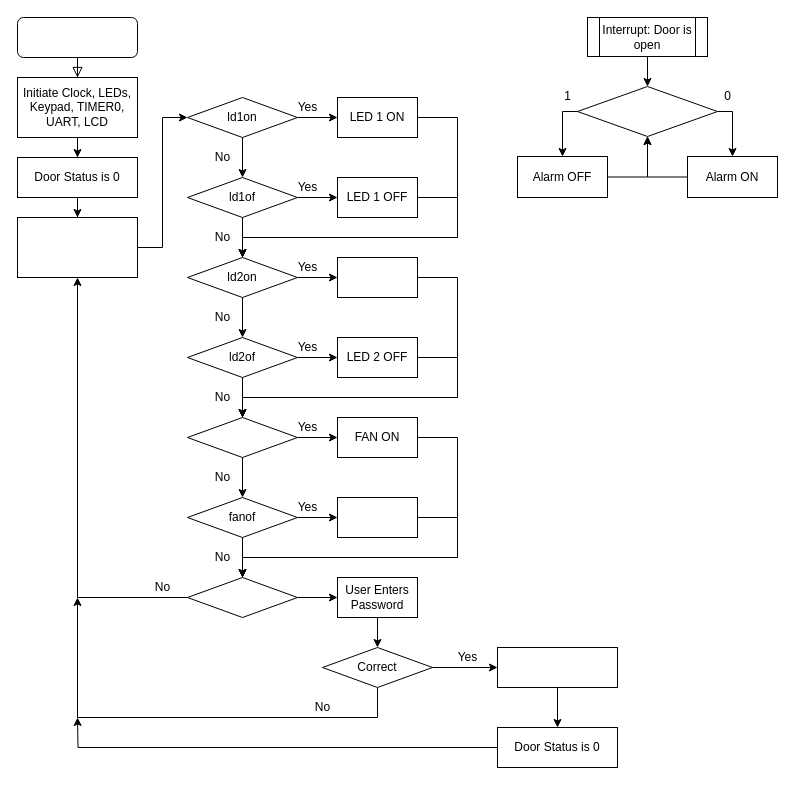
Some shapes in this 795 by 785 pixel diagram are drawn without their labels. Each missing label, with the box of its shape:
Door status: (576, 86, 718, 136)
Door Status is 1 for 20 seconds: (496, 646, 618, 688)
FAN OFF: (336, 496, 418, 538)
fanon: (186, 416, 298, 458)
LED 2 ON: (336, 256, 418, 298)
opend: (186, 576, 298, 618)
Reading UART buffer: (16, 216, 138, 278)
Start: (16, 16, 138, 58)
